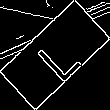L_NW: (27, 26, 83, 84)
